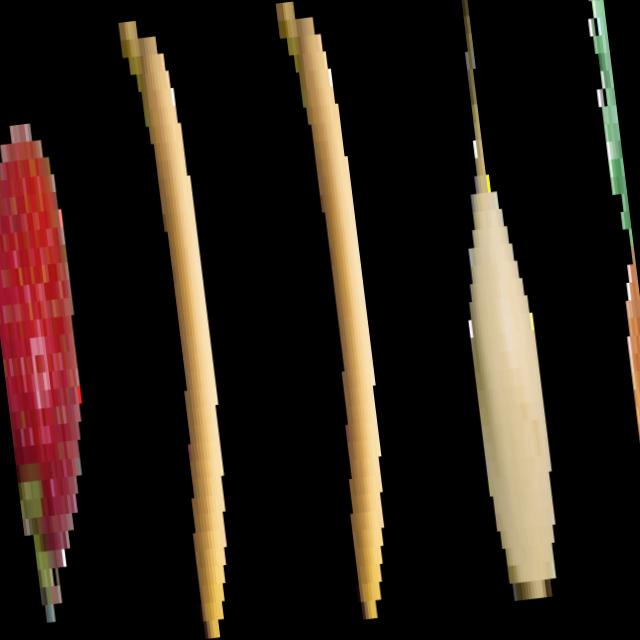bananas: (261, 0, 418, 622), (106, 15, 257, 640)
pear: (415, 0, 580, 621)
pineapples: (574, 0, 640, 583)
strawberry: (0, 32, 115, 640)
